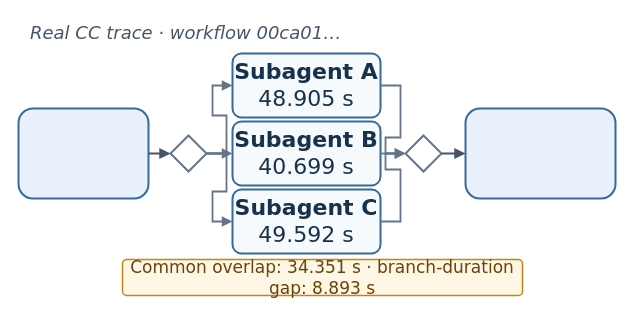
Some shapes in this 633 by 315 pixel diagram are drawn without their labels. The shapes that lost their labels are listed below. From the top down, each one's centre as x and y in pixels, then its label:
At (83,153): "Main prelude 5 requests".
At (540,153): "Main continuation 24 requests".
